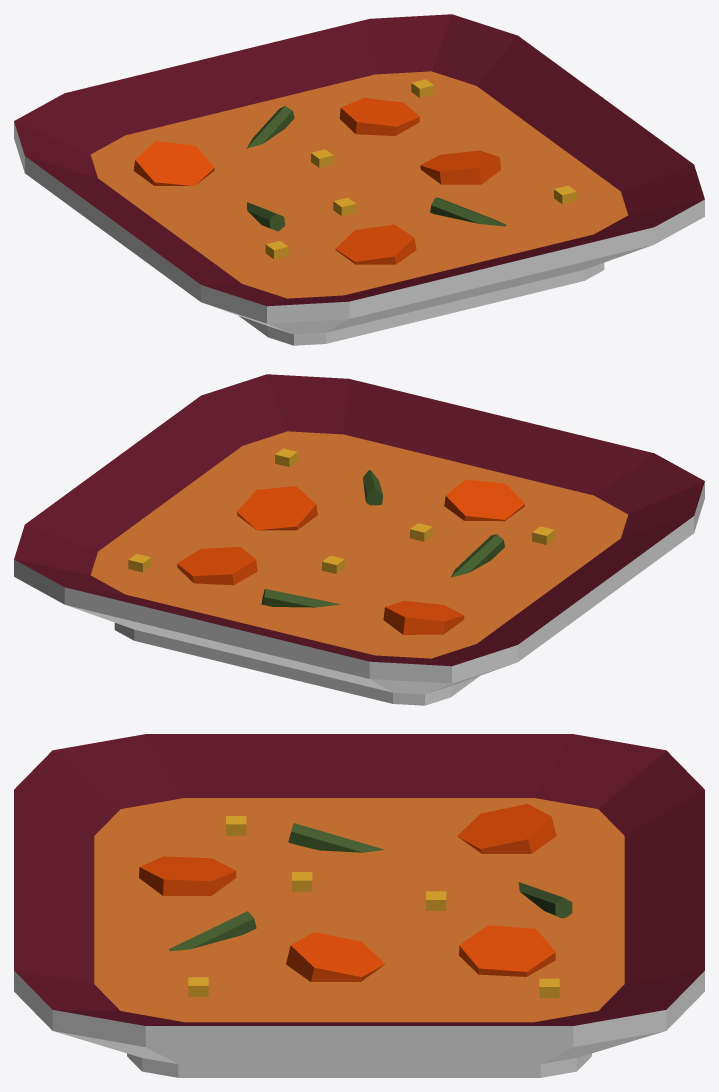
Rendered from R_Soup_1.fbx.
The picture shows the model from 3 angles, top to bottom: view 1: azimuth 30°, elevation 25°; view 2: azimuth 150°, elevation 25°; view 3: azimuth 270°, elevation 25°; orthographic projection. The views are drawn at different scales.
Parts seen in each view (by area): view 1: R_Soup_1; view 2: R_Soup_1; view 3: R_Soup_1.
Part boxes in pixels (x1,y1,x2,y2): R_Soup_1: [14, 14, 704, 345]; R_Soup_1: [14, 374, 704, 705]; R_Soup_1: [14, 734, 704, 1077].
Size of the model in its own units: 174 by 174 by 27.64.
